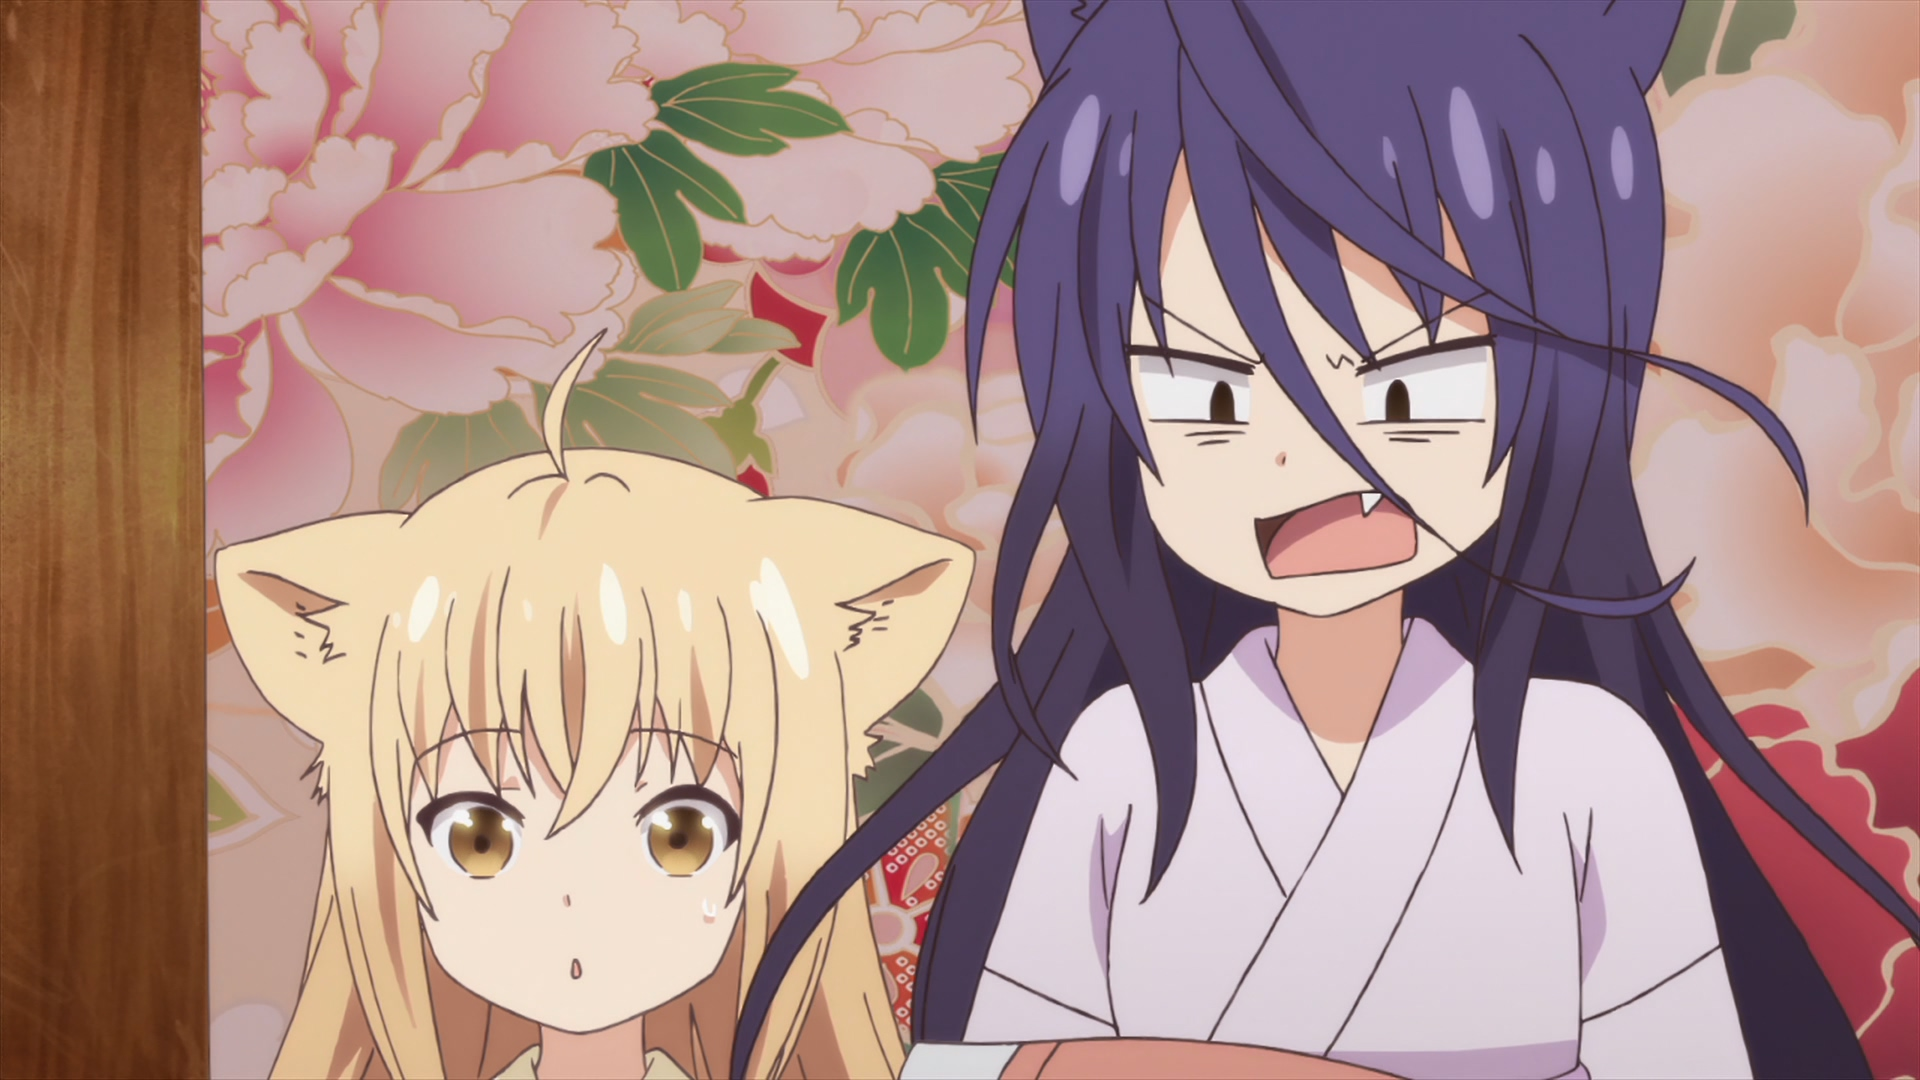柚: (214, 328, 977, 1080)
皋: (732, 1, 1920, 1080)
